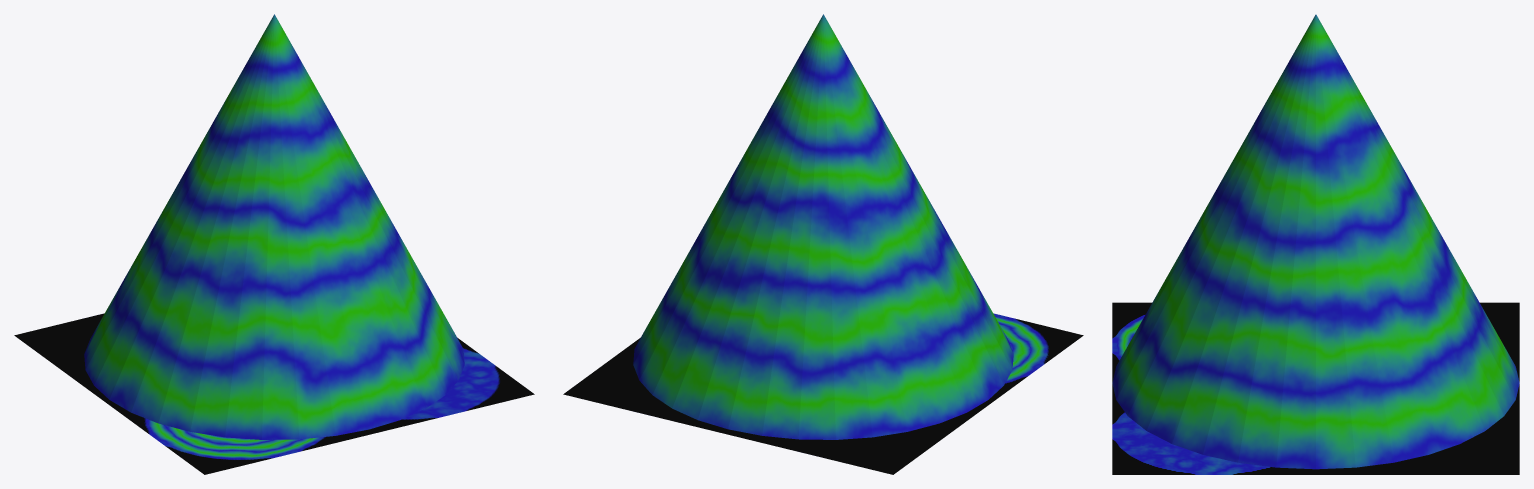
The model's file is test model glitch.glb.
The picture shows the model from 3 angles, left to right: view 1: azimuth 30°, elevation 25°; view 2: azimuth 150°, elevation 25°; view 3: azimuth 270°, elevation 25°; orthographic projection. The views are drawn at different scales.
Parts seen in each view (by area): view 1: Cone, Plane; view 2: Cone, Plane; view 3: Cone, Plane.
Part boxes in pixels (x1=…): Cone: x1=84, y1=14, x2=464, y2=439; Plane: x1=14, y1=313, x2=534, y2=474; Cone: x1=633, y1=14, x2=1013, y2=439; Plane: x1=563, y1=313, x2=1083, y2=474; Cone: x1=1112, y1=14, x2=1519, y2=469; Plane: x1=1112, y1=302, x2=1519, y2=474.
Size of the model in its own units: 2 by 2.03 by 2.
1 material, 1 textured.
